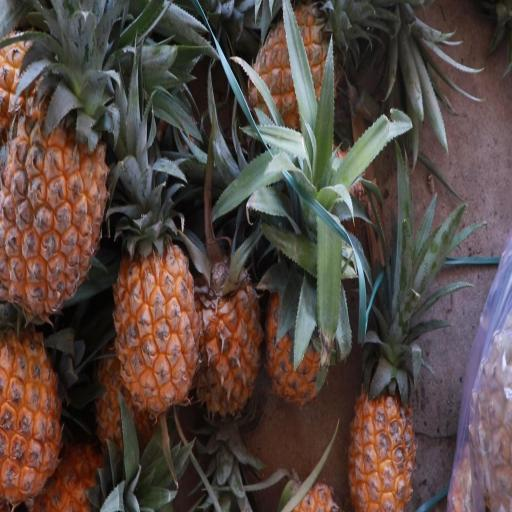Pineapple - v8 v1: (0, 72, 113, 330), (245, 6, 353, 179), (113, 242, 203, 424), (0, 327, 77, 512), (197, 250, 268, 436), (264, 248, 338, 423), (346, 374, 420, 512)
